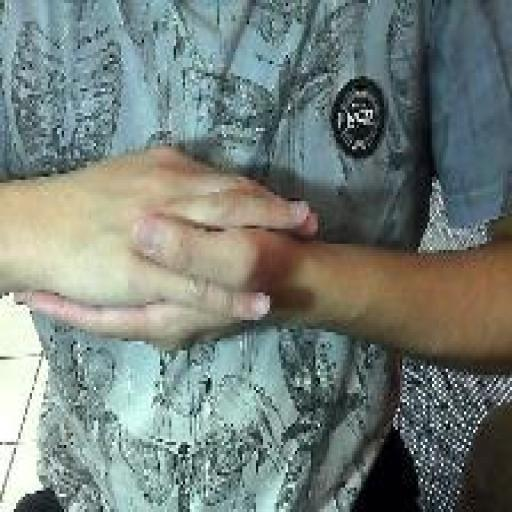Saru -monkey-: (9, 137, 325, 366)
